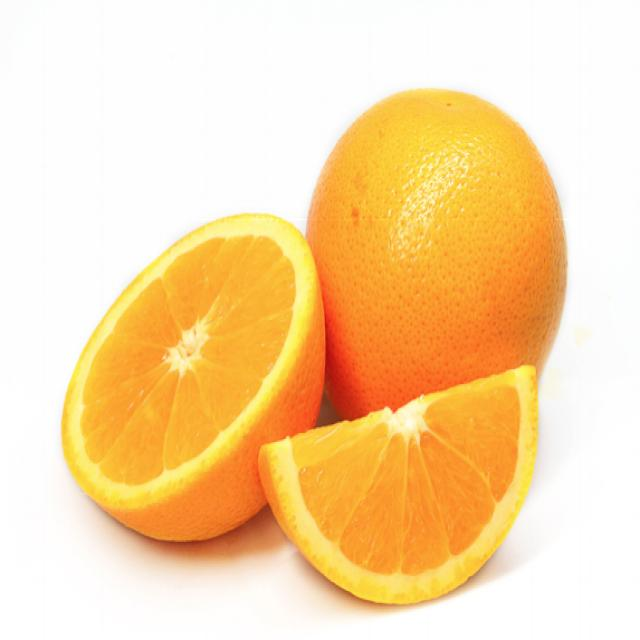orange: (58, 210, 327, 547), (308, 86, 570, 429), (260, 368, 542, 610)
